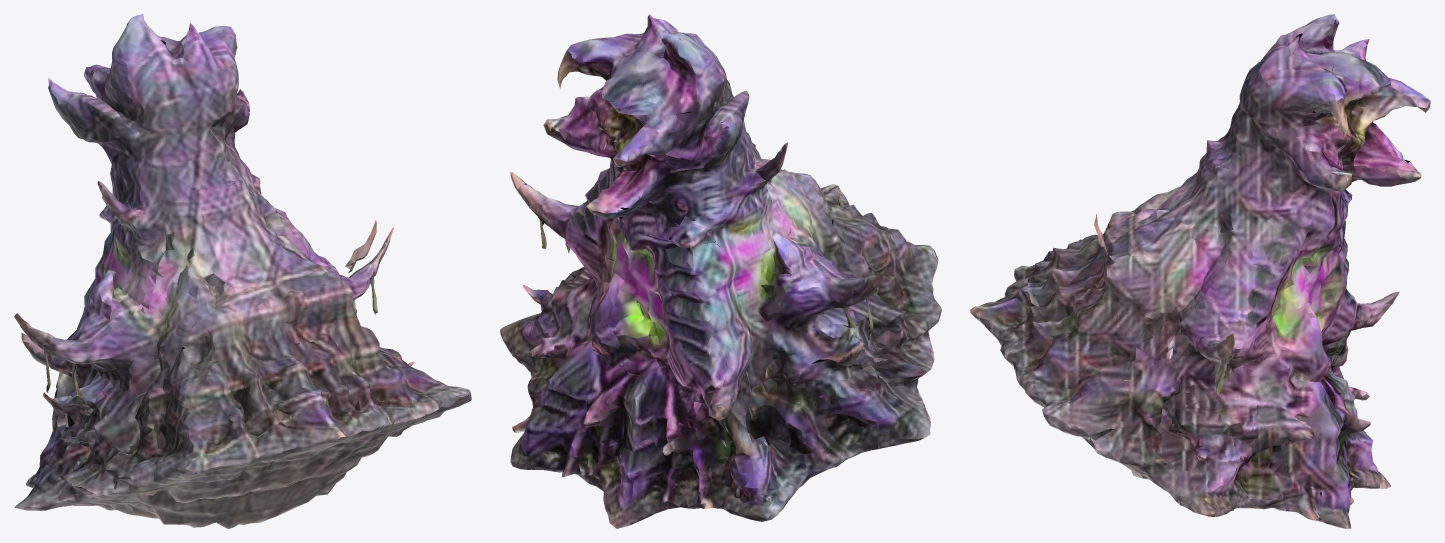
Rendered from krynn_acid_spire_1792708735535.glb.
3 views of the same model, side by side, from view 1: azimuth 30°, elevation 25°; view 2: azimuth 150°, elevation 25°; view 3: azimuth 270°, elevation 25° (orthographic). The views are drawn at different scales.
Visible parts, largest first — view 1: geometry_0; view 2: geometry_0; view 3: geometry_0.
Part boxes in pixels (x1,y1,x2,y2): geometry_0: (14,14,471,528); geometry_0: (500,14,941,528); geometry_0: (970,14,1430,528).
Bounding box in the file's own units: 0.8111 × 0.8652 × 0.7839.
Materials: 1 (1 with a texture image).
